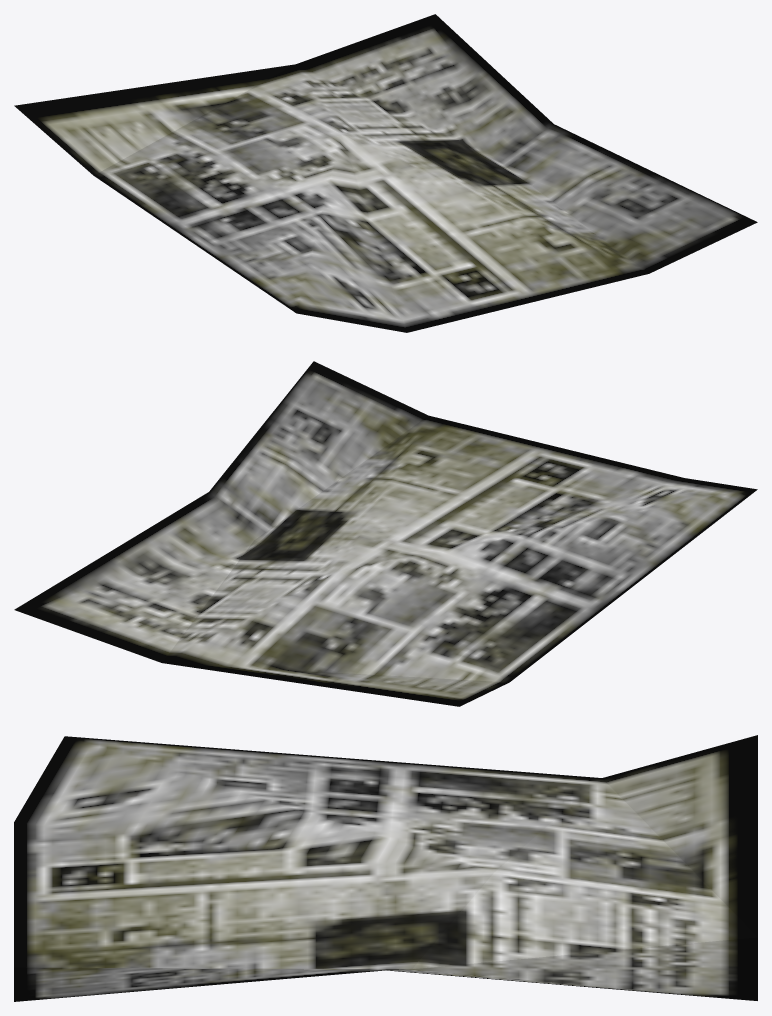
Rendered from M_Home_Garden_paper01.fbx.
3 renders of one model, top to bottom at view 1: azimuth 30°, elevation 25°; view 2: azimuth 150°, elevation 25°; view 3: azimuth 270°, elevation 25°, orthographic. The views are drawn at different scales.
Visible parts, largest first — view 1: M_Home_Garden_paper01; view 2: M_Home_Garden_paper01; view 3: M_Home_Garden_paper01.
Boxes of the visible parts, <box> form: M_Home_Garden_paper01: <box>14,14,757,332</box>; M_Home_Garden_paper01: <box>14,361,757,706</box>; M_Home_Garden_paper01: <box>14,735,757,1001</box>.
Bounding box in the file's own units: 84 × 4.97 × 100.
